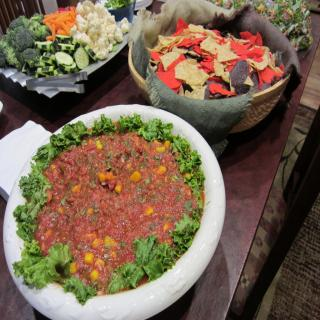Broccoli: (0, 14, 50, 70)
Salad: (12, 118, 215, 294)
